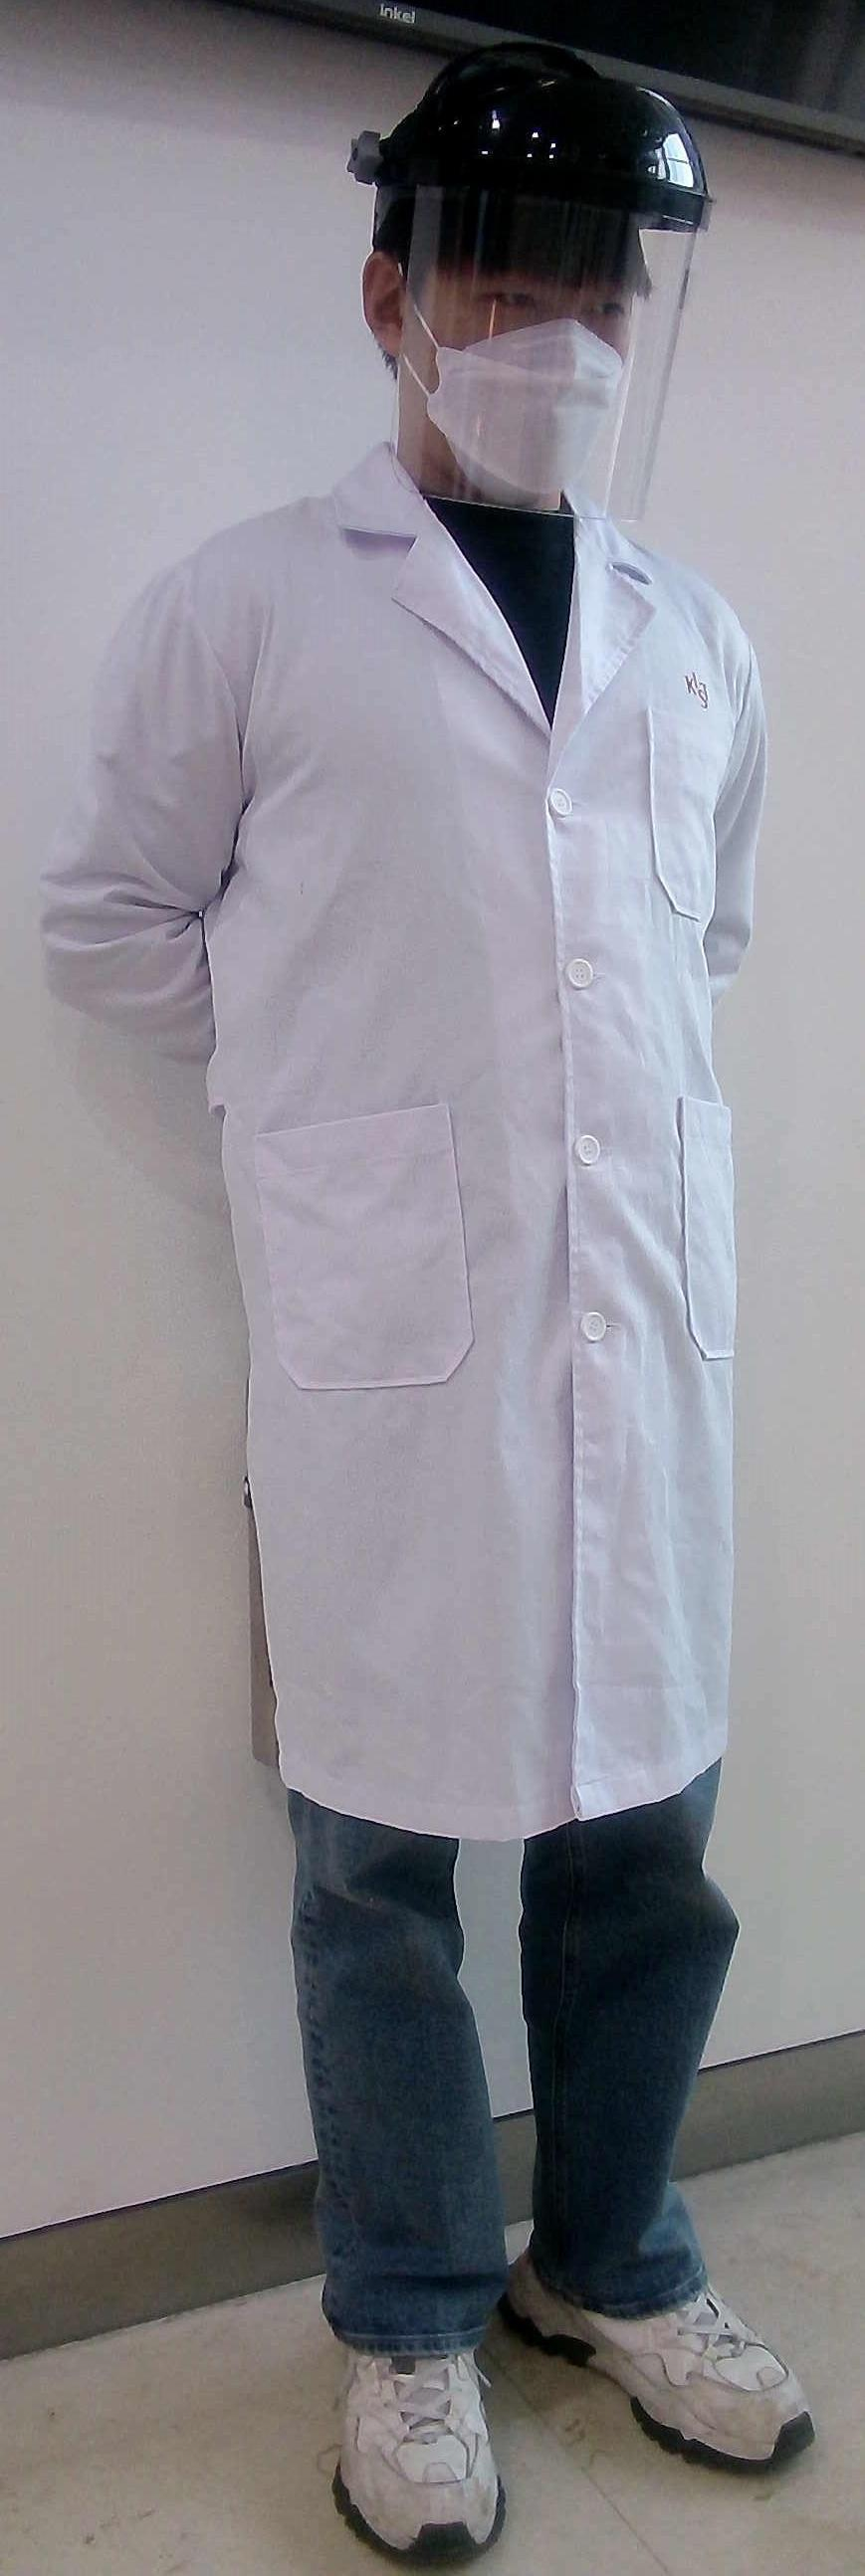lab_coat: (31, 534, 839, 1801)
